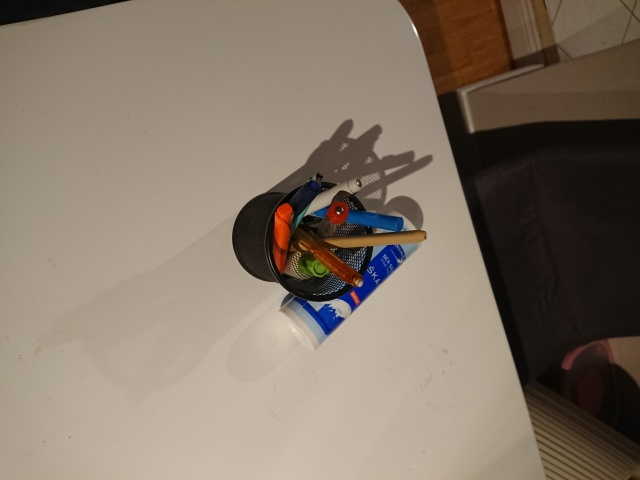Solana Pag Fine Sea Salt 250g: (273, 207, 427, 356)
